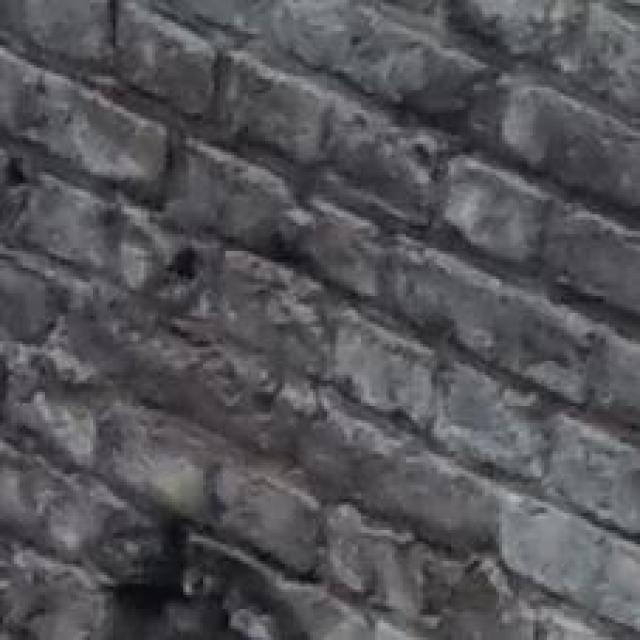Crack: (32, 423, 366, 640)
